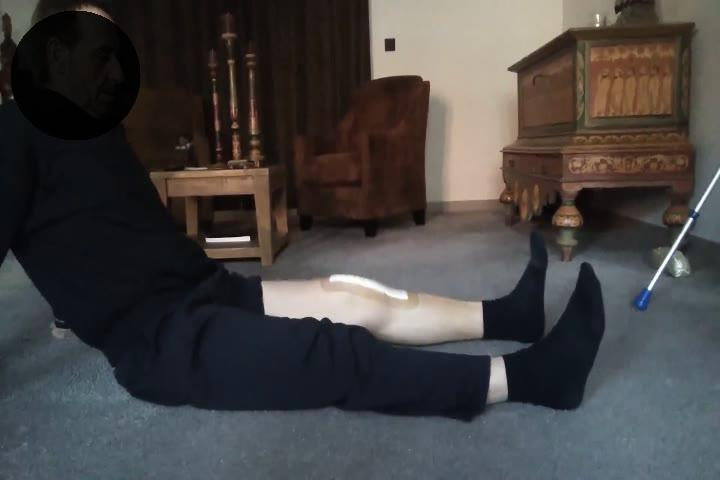lower_body: (114, 220, 617, 434)
